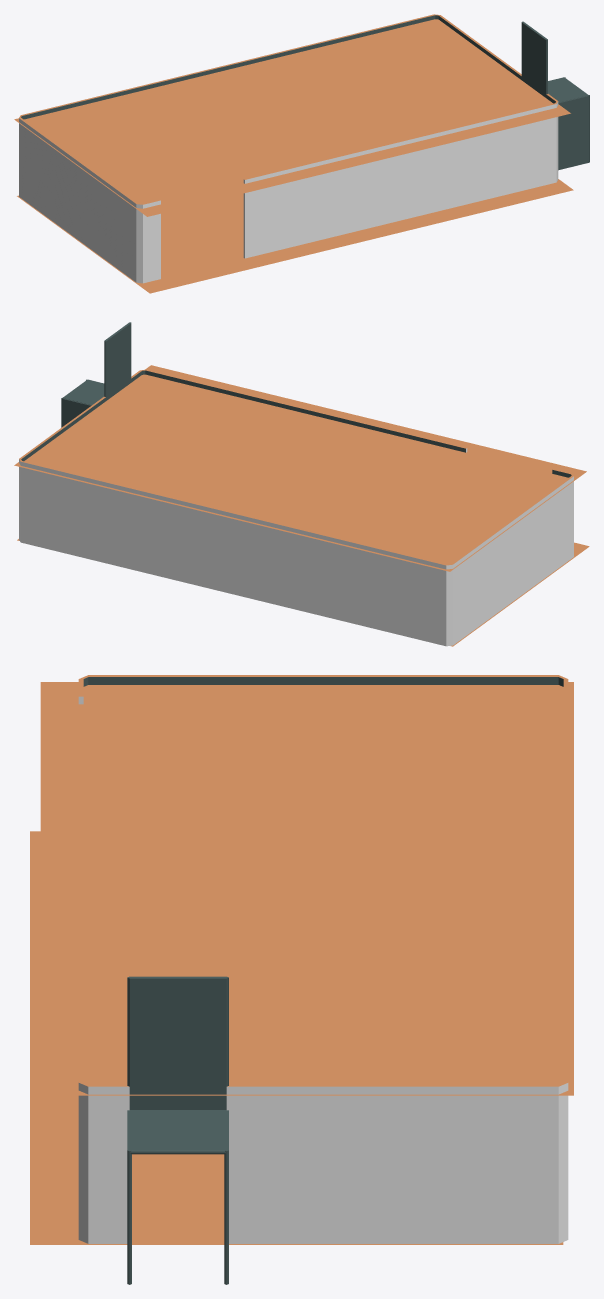
File: room 5.obj
3 renders of one model, top to bottom at view 1: azimuth 30°, elevation 25°; view 2: azimuth 150°, elevation 25°; view 3: azimuth 270°, elevation 25°, orthographic. The views are drawn at different scales.
Parts seen in each view (by area): view 1: Cube.012_Cube.028, wall.095_wall.002, Cube.014_Cube.028, wall.094_wall.002, wall.092_wall.001, wall.093_wall.009, wall.096_wall.010, wall.091_wall.002, wall.106_wall.010, wall.026_wall.005, wall.123_wall.010, wall.029_wall.006 (+1 smaller); view 2: Cube.012_Cube.028, wall.091_wall.002, wall.094_wall.002, wall.027_wall.001, wall.092_wall.001, wall.095_wall.002, wall.106_wall.010, wall.093_wall.009, wall.123_wall.010, wall.029_wall.006, wall.097_wall.010; view 3: Cube.012_Cube.028, wall.029_wall.006, Cube.014_Cube.028, wall.106_wall.010, wall.027_wall.001, wall.026_wall.005, wall.123_wall.010, wall.094_wall.002, wall.091_wall.002, wall.095_wall.002, wall.092_wall.001, wall.096_wall.010 (+1 smaller).
Boxes of the visible parts, x1,y1,x2,y2 form: Cube.012_Cube.028: (14,19,570,216); wall.095_wall.002: (243,107,538,258); Cube.014_Cube.028: (17,179,573,293); wall.094_wall.002: (54,143,127,274); wall.092_wall.001: (19,111,55,222); wall.093_wall.009: (126,196,160,283); wall.096_wall.010: (558,95,589,170); wall.091_wall.002: (39,29,373,115); wall.106_wall.010: (521,21,547,97); wall.026_wall.005: (538,94,558,186); wall.123_wall.010: (548,77,588,102); wall.029_wall.006: (449,22,521,79); Cube.012_Cube.028: (14,365,586,571); wall.091_wall.002: (85,476,428,641); wall.094_wall.002: (488,483,563,617); wall.027_wall.001: (19,451,86,557); wall.092_wall.001: (427,537,490,646); wall.095_wall.002: (164,374,467,452); wall.106_wall.010: (104,322,131,400); wall.093_wall.009: (552,469,573,564); wall.123_wall.010: (62,380,104,405); wall.029_wall.006: (30,396,106,455); wall.097_wall.010: (61,398,91,427); Cube.012_Cube.028: (40,682,573,1095); wall.029_wall.006: (226,1084,517,1243); Cube.014_Cube.028: (30,831,563,1244); wall.106_wall.010: (127,976,228,1109); wall.027_wall.001: (517,1021,568,1243); wall.026_wall.005: (78,1065,129,1243); wall.123_wall.010: (129,1110,226,1154); wall.094_wall.002: (129,675,415,684); wall.091_wall.002: (563,696,568,1021); wall.095_wall.002: (78,778,83,1065); wall.092_wall.001: (413,675,568,696); wall.096_wall.010: (127,1110,131,1284).
Bounding box in the file's own units: 22.15 × 6.04 × 11.22.
